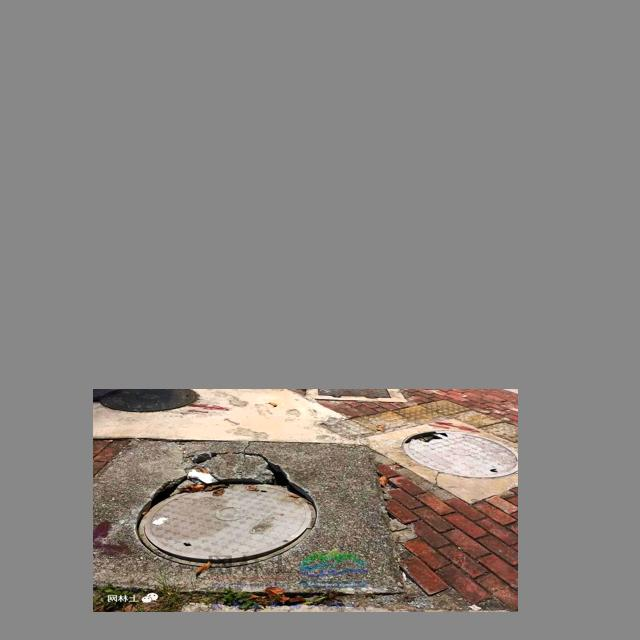circle: (95, 433, 411, 594)
